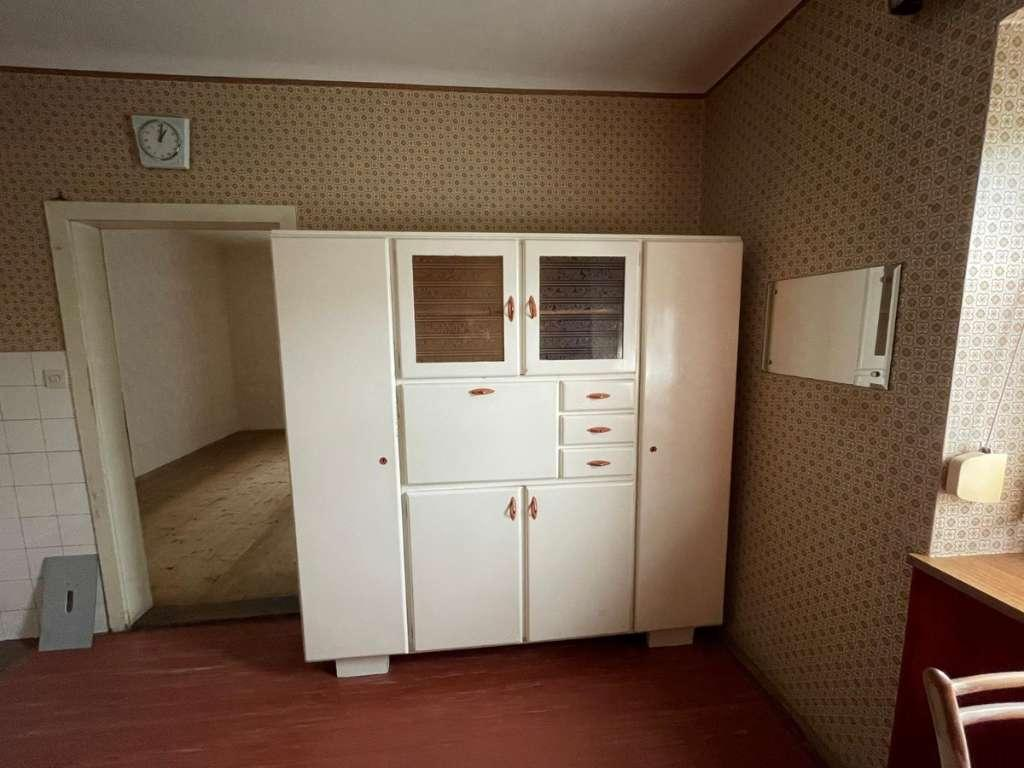cabinet_door: (284, 236, 401, 657), (640, 239, 735, 628), (403, 490, 523, 642), (525, 485, 635, 632), (399, 240, 518, 370), (401, 386, 554, 483), (524, 240, 636, 369), (563, 412, 635, 445), (563, 448, 632, 480), (564, 381, 634, 412)
handle: (499, 497, 521, 525), (464, 384, 496, 401), (523, 495, 542, 523), (583, 422, 611, 440), (581, 388, 613, 402), (376, 451, 394, 474), (586, 458, 613, 473), (503, 297, 518, 322), (526, 296, 539, 321), (648, 439, 665, 458)
